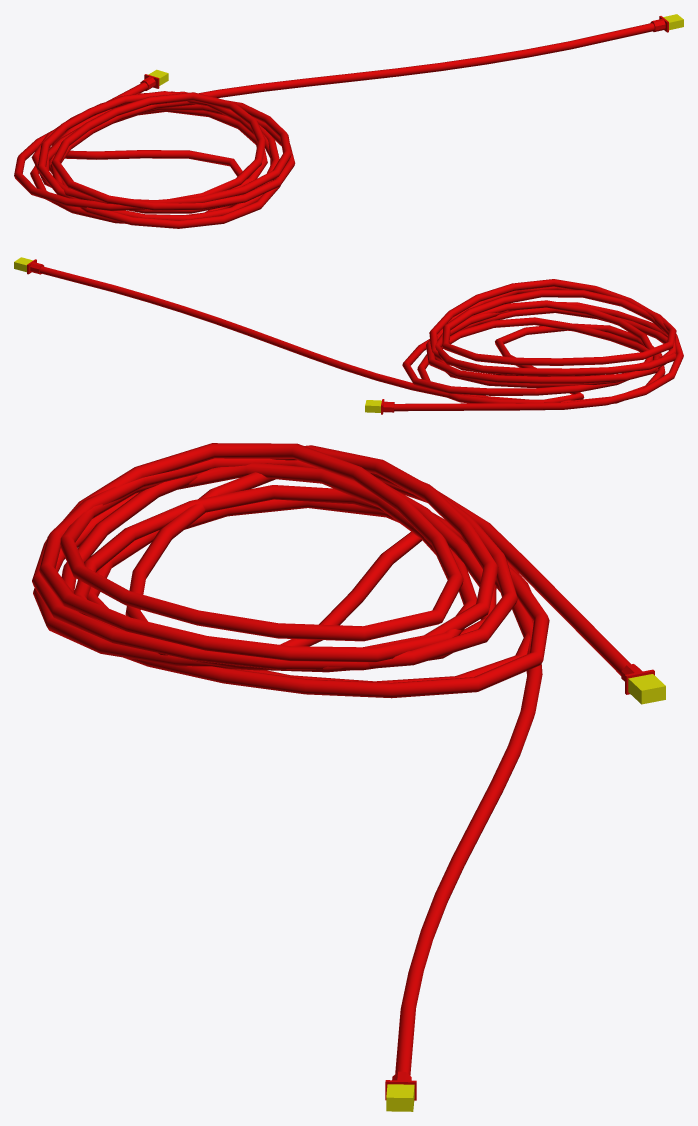
File: Folded Cable 2.fbx
3 renders of one model, top to bottom at view 1: azimuth 30°, elevation 25°; view 2: azimuth 150°, elevation 25°; view 3: azimuth 270°, elevation 25°, orthographic. The views are drawn at different scales.
Visible parts, largest first — view 1: Ethernet Cable 1; view 2: Ethernet Cable 1; view 3: Ethernet Cable 1.
Boxes of the visible parts, box(x1,y1,x2,y2) form: Ethernet Cable 1: box(14, 14, 683, 228); Ethernet Cable 1: box(14, 257, 683, 414); Ethernet Cable 1: box(32, 443, 665, 1111).
Size of the model in its own units: 75.83 by 4.97 by 33.21.
